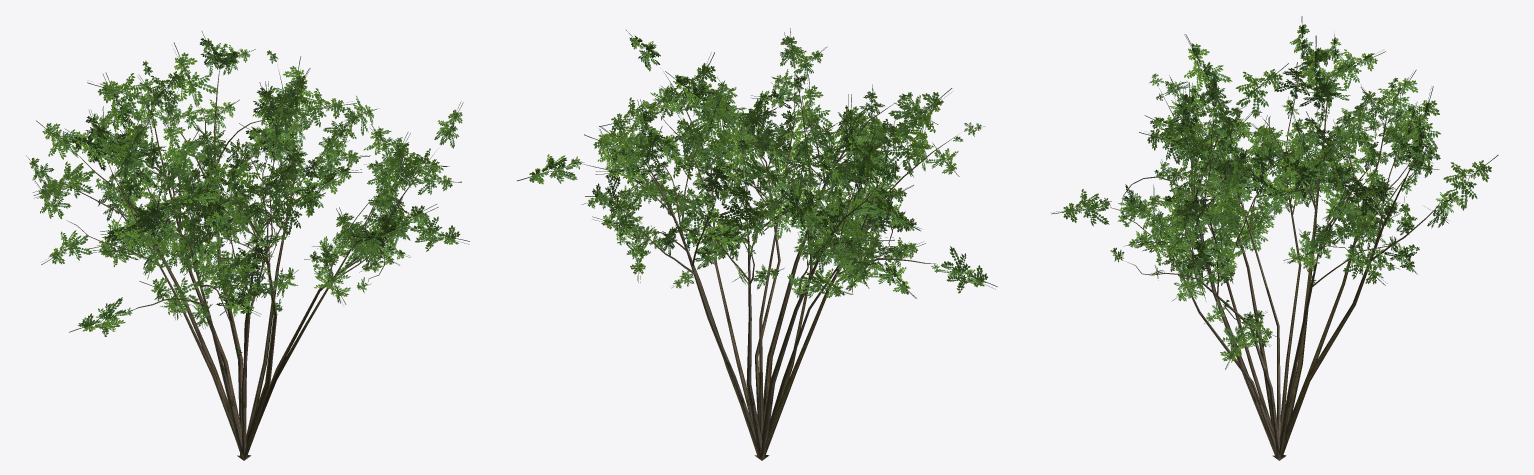
Rendered from bush_2.glb.
The picture shows the model from 3 angles, left to right: view 1: azimuth 30°, elevation 25°; view 2: azimuth 150°, elevation 25°; view 3: azimuth 270°, elevation 25°; orthographic projection. The views are drawn at different scales.
Visible parts, largest first — view 1: Leaves, Branches; view 2: Leaves, Branches; view 3: Leaves, Branches.
Part boxes in pixels (bbox=[...]): Leaves: bbox=[26, 31, 469, 355]; Branches: bbox=[57, 57, 434, 460]; Leaves: bbox=[517, 28, 997, 298]; Branches: bbox=[582, 71, 958, 460]; Leaves: bbox=[1051, 16, 1498, 369]; Branches: bbox=[1110, 62, 1442, 460].
Bounding box in the file's own units: 1.97 × 1.8 × 1.98.
2 materials, 2 textured.
